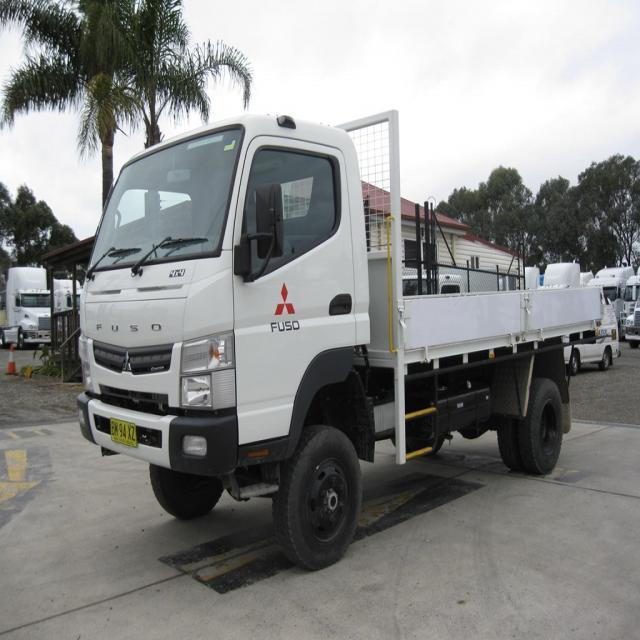truck: (74, 103, 600, 569)
